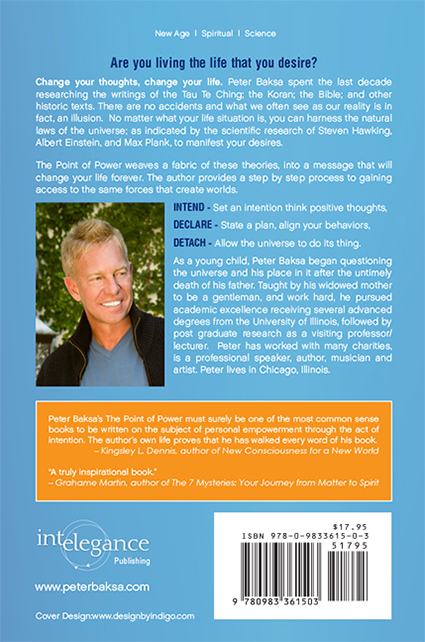barcode: (234, 538, 377, 617)
